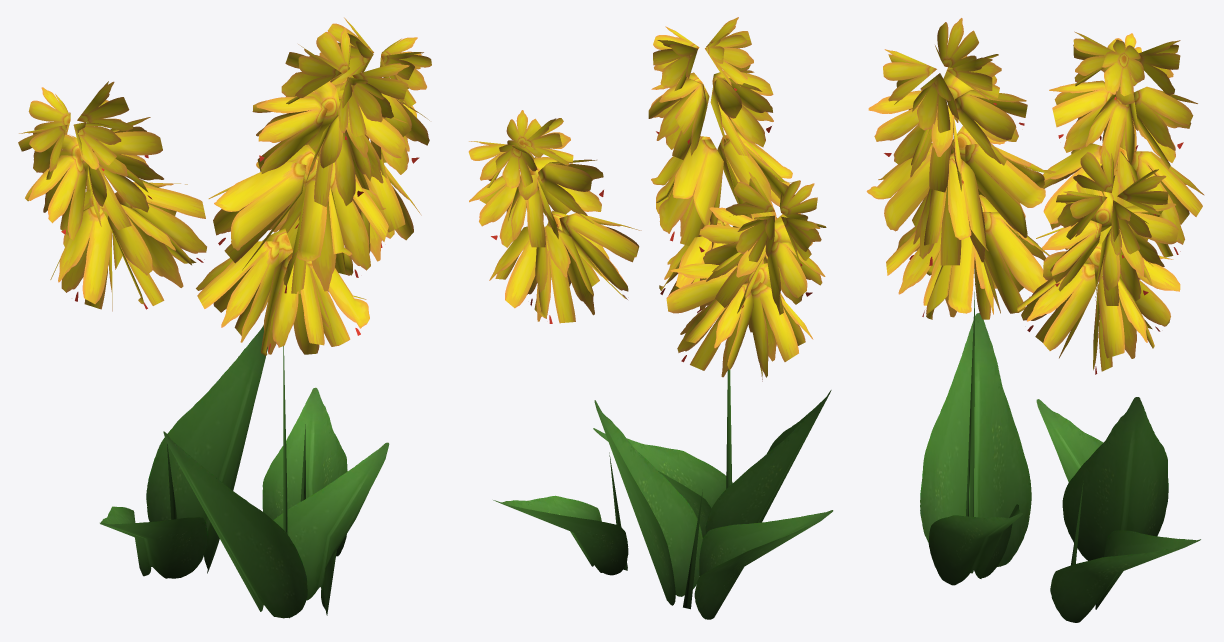
Rendered from Flower_4_Group@lod.gltf.
3 renders of one model, left to right at view 1: azimuth 30°, elevation 25°; view 2: azimuth 150°, elevation 25°; view 3: azimuth 270°, elevation 25°, orthographic. The views are drawn at different scales.
Parts seen in each view (by area): view 1: Flower_4_Group; view 2: Flower_4_Group; view 3: Flower_4_Group.
Boxes of the visible parts, x1=… form: Flower_4_Group: x1=18, y1=17, x2=431, y2=618; Flower_4_Group: x1=468, y1=17, x2=833, y2=619; Flower_4_Group: x1=866, y1=18, x2=1204, y2=622.
Size of the model in its own units: 1.78 by 2.49 by 1.37.
2 materials, 2 textured.
